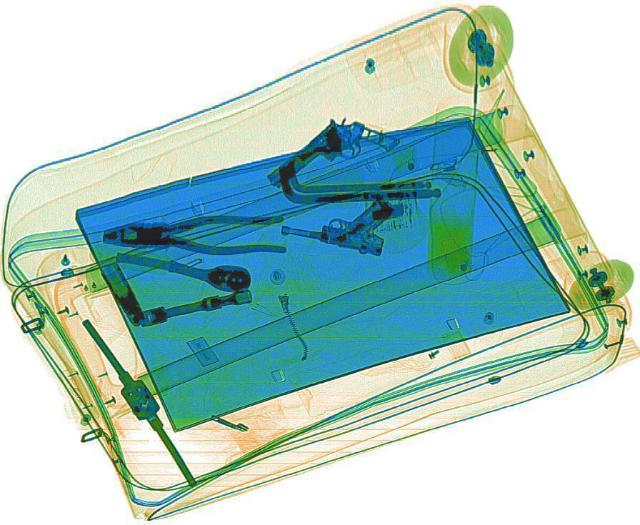Gun: (261, 105, 399, 212), (276, 183, 398, 255)
Pliers: (102, 212, 288, 255)
